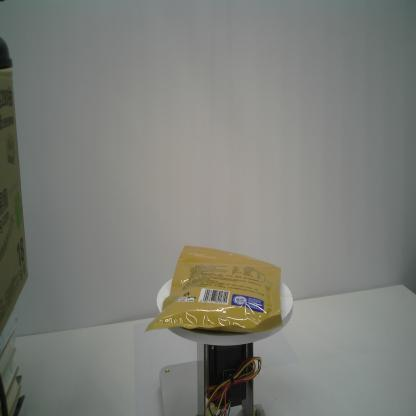Dried Fruit: (143, 242, 282, 337)
